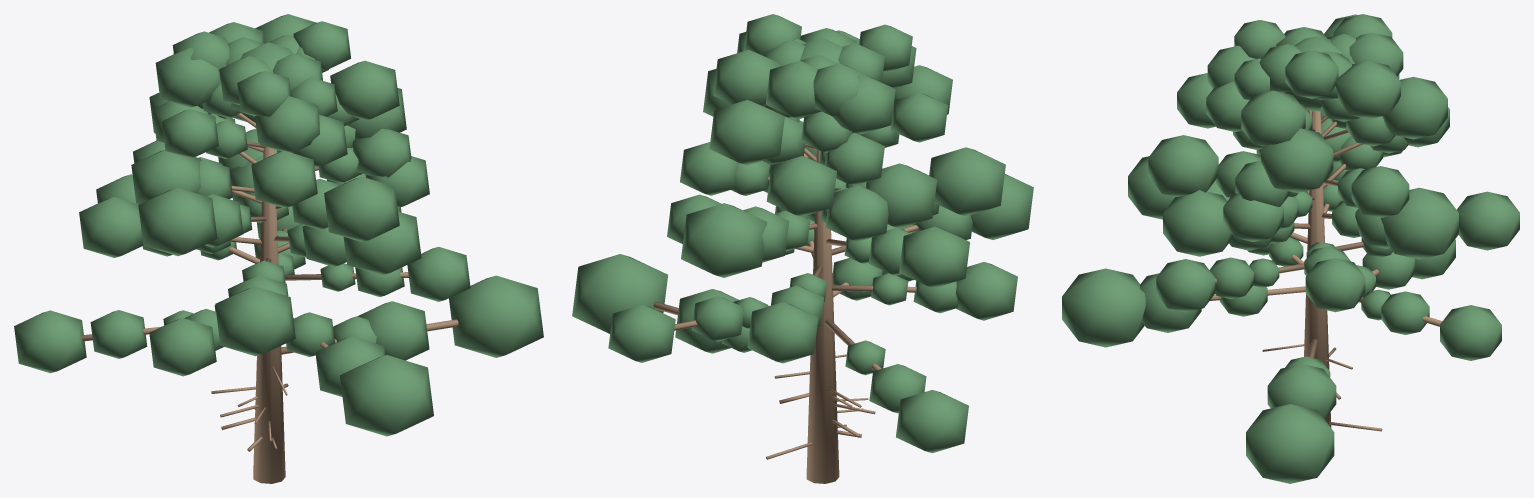
The model's file is pine_alpine_short.glb.
The picture shows the model from 3 angles, left to right: view 1: azimuth 30°, elevation 25°; view 2: azimuth 150°, elevation 25°; view 3: azimuth 270°, elevation 25°; orthographic projection. The views are drawn at different scales.
Parts seen in each view (by area): view 1: pine_alpine_short; view 2: pine_alpine_short; view 3: pine_alpine_short.
Part boxes in pixels (x1,y1,x2,y2): pine_alpine_short: [14, 14, 543, 483]; pine_alpine_short: [572, 14, 1033, 483]; pine_alpine_short: [1062, 14, 1519, 483].
Size of the model in its own units: 9.94 by 9.37 by 9.02.
